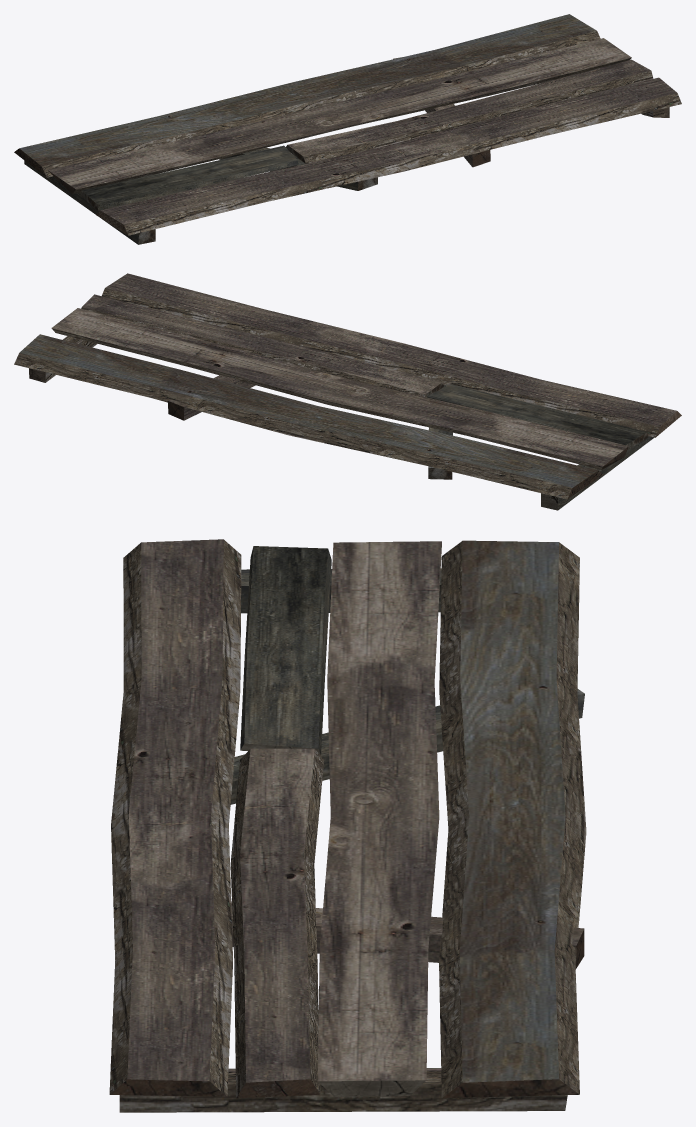
File: nastil.FBX
3 views of the same model, one above another, from view 1: azimuth 30°, elevation 25°; view 2: azimuth 150°, elevation 25°; view 3: azimuth 270°, elevation 25° (orthographic). The views are drawn at different scales.
Parts seen in each view (by area): view 1: nastil; view 2: nastil; view 3: nastil.
Boxes of the visible parts, bbox=[...] form: nastil: bbox=[14, 14, 681, 244]; nastil: bbox=[14, 273, 681, 510]; nastil: bbox=[109, 539, 586, 1112].
Bounding box in the file's own units: 3.74 × 0.14 × 1.39.
